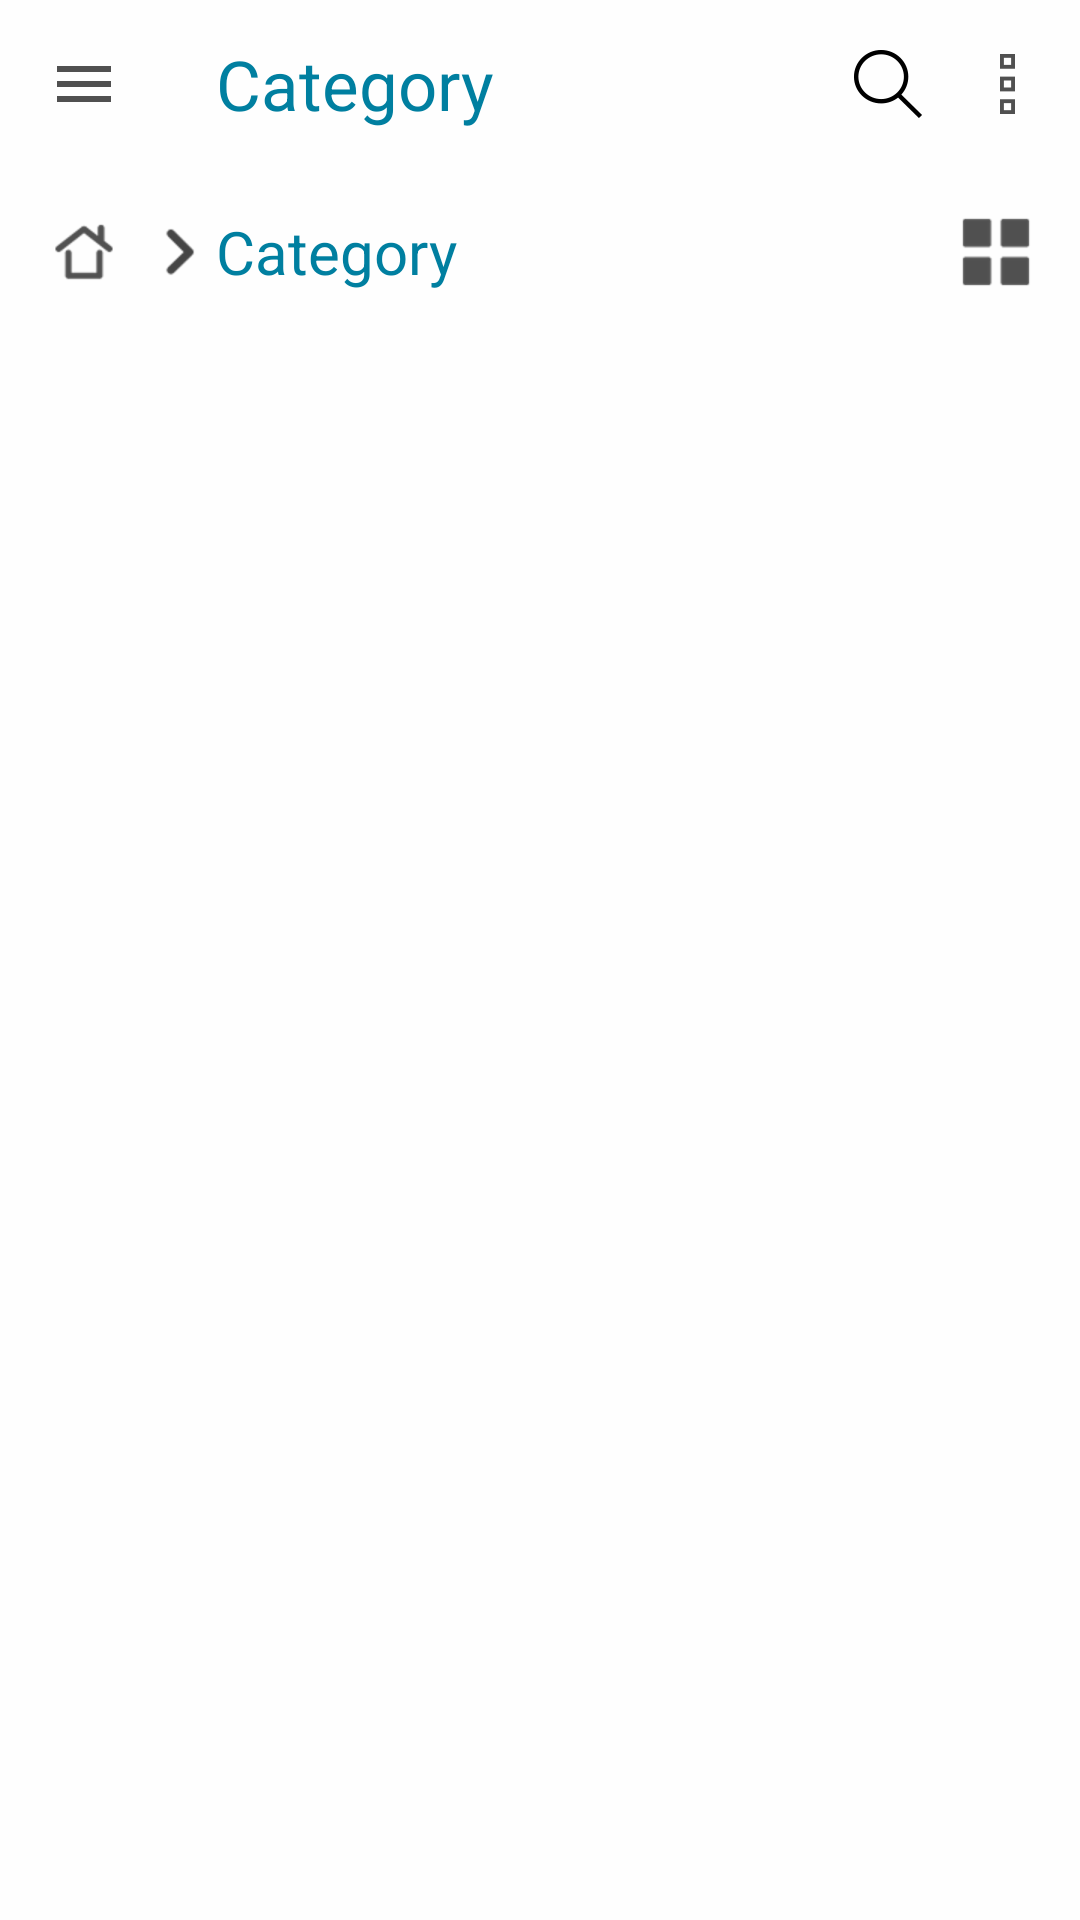

Where icons sit on this 1080px×1920px app screen, as bbox=[x1, y1, x2, y2]:
asus grid view: bbox=[962, 218, 1030, 286]
asus home: bbox=[55, 224, 113, 279]
asus menu: bbox=[1000, 54, 1015, 114]
asus next: bbox=[166, 229, 194, 275]
asus search: bbox=[854, 50, 922, 118]
menu: bbox=[57, 66, 111, 102]
